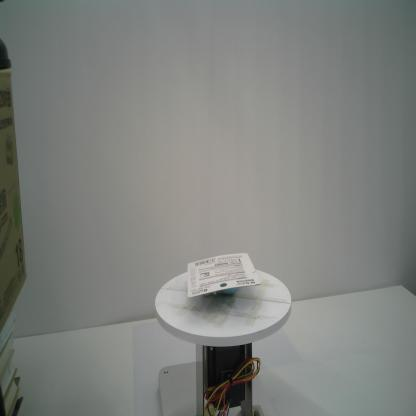Stationery: (187, 253, 260, 298)
